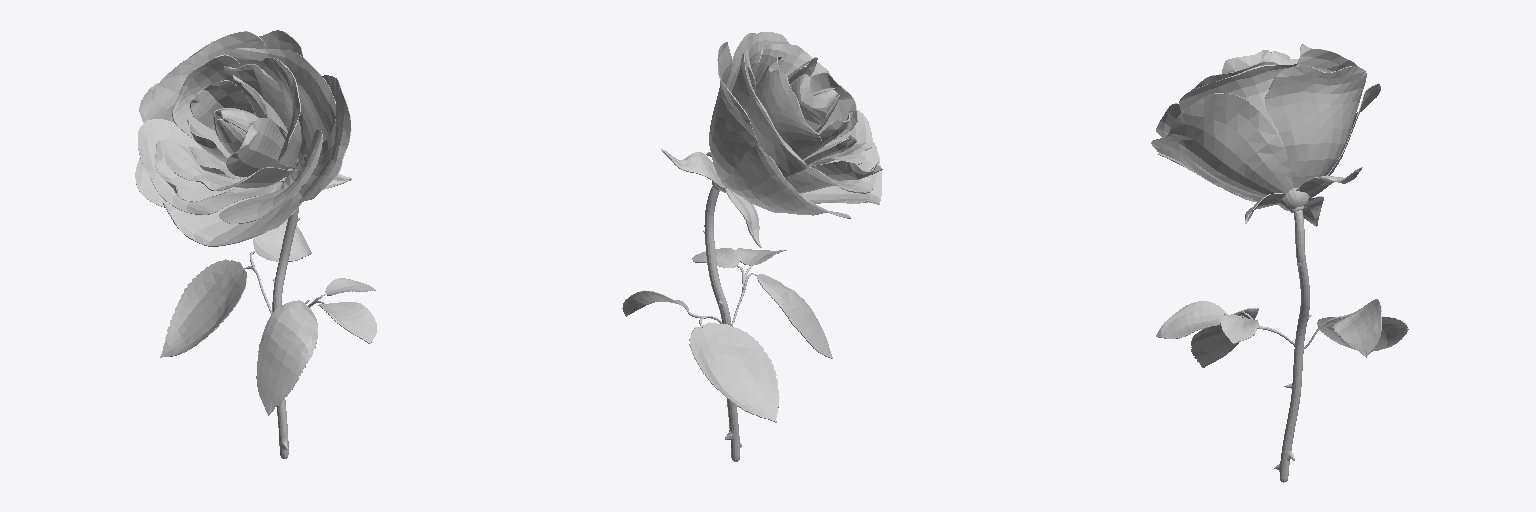
File: redrose.obj
3 renders of one model, left to right at view 1: azimuth 30°, elevation 25°; view 2: azimuth 150°, elevation 25°; view 3: azimuth 270°, elevation 25°, orthographic.
Visible parts, largest first — view 1: Object_[number redacted]_2048x2048.png; view 2: Object_[number redacted]_2048x2048.png; view 3: Object_[number redacted]_2048x2048.png.
Part boxes in pixels (x1,y1,x2,y2): Object_[number redacted]_2048x2048.png: (135,30,376,458); Object_[number redacted]_2048x2048.png: (622,32,882,461); Object_[number redacted]_2048x2048.png: (1151,44,1408,482).
Size of the model in its own units: 1.23 by 2.5 by 1.39.